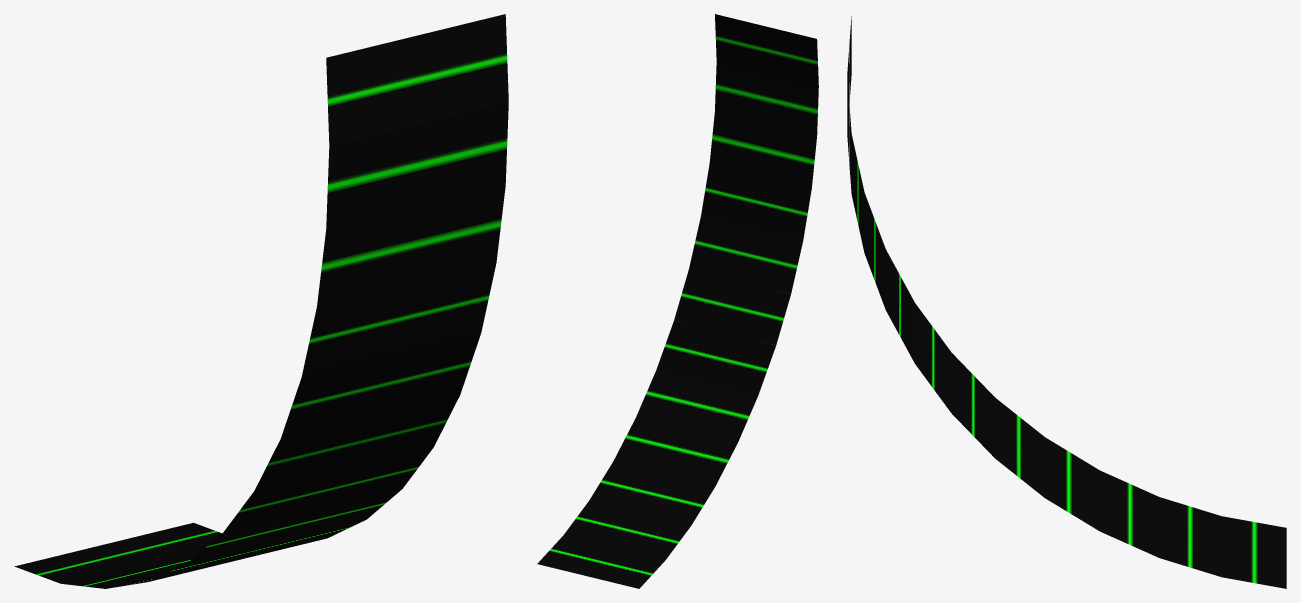
The model's file is ring 2.obj.
3 renders of one model, left to right at view 1: azimuth 30°, elevation 25°; view 2: azimuth 150°, elevation 25°; view 3: azimuth 270°, elevation 25°, orthographic. The views are drawn at different scales.
Visible parts, largest first — view 1: Torus; view 2: Torus; view 3: Torus.
Part boxes in pixels (left/top/right/bottom): Torus: left=14, top=14, right=508, bottom=588; Torus: left=537, top=14, right=818, bottom=588; Torus: left=847, top=16, right=1286, bottom=588.
Bounding box in the file's own units: 1.71 × 6.71 × 5.2.
